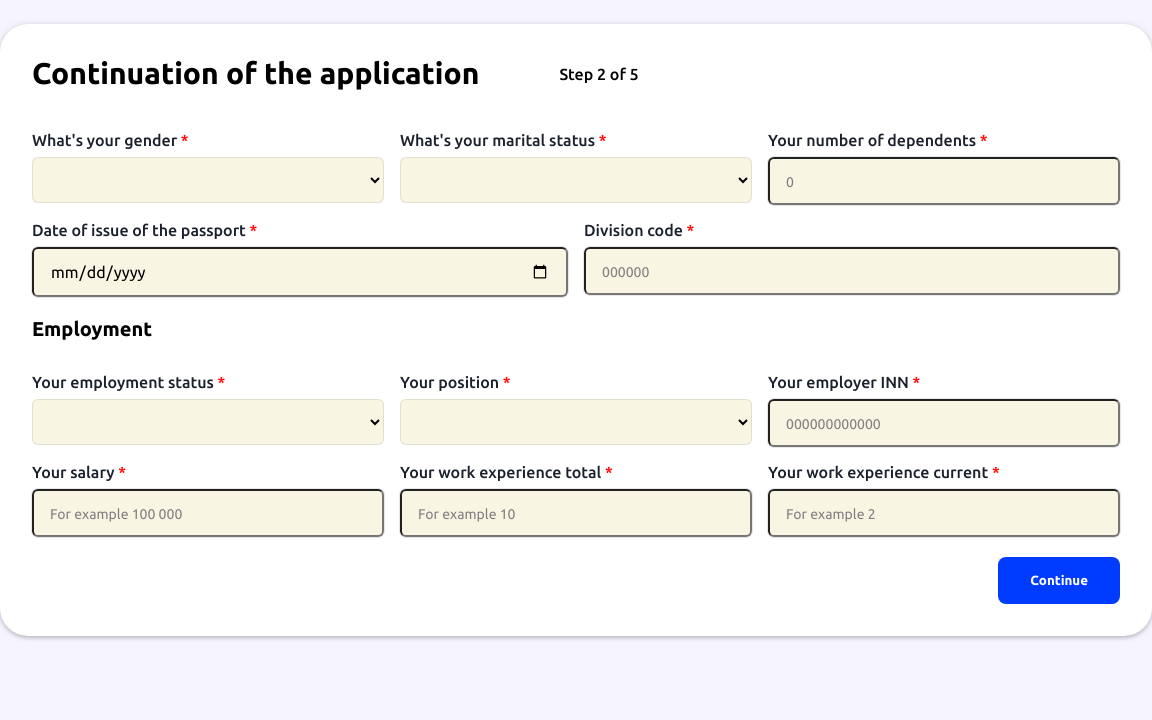
it: Scoring component › display error if trying submt without filling required fields
Click the button "Continue".
click(1059, 580)  # box [998,557,1120,604]
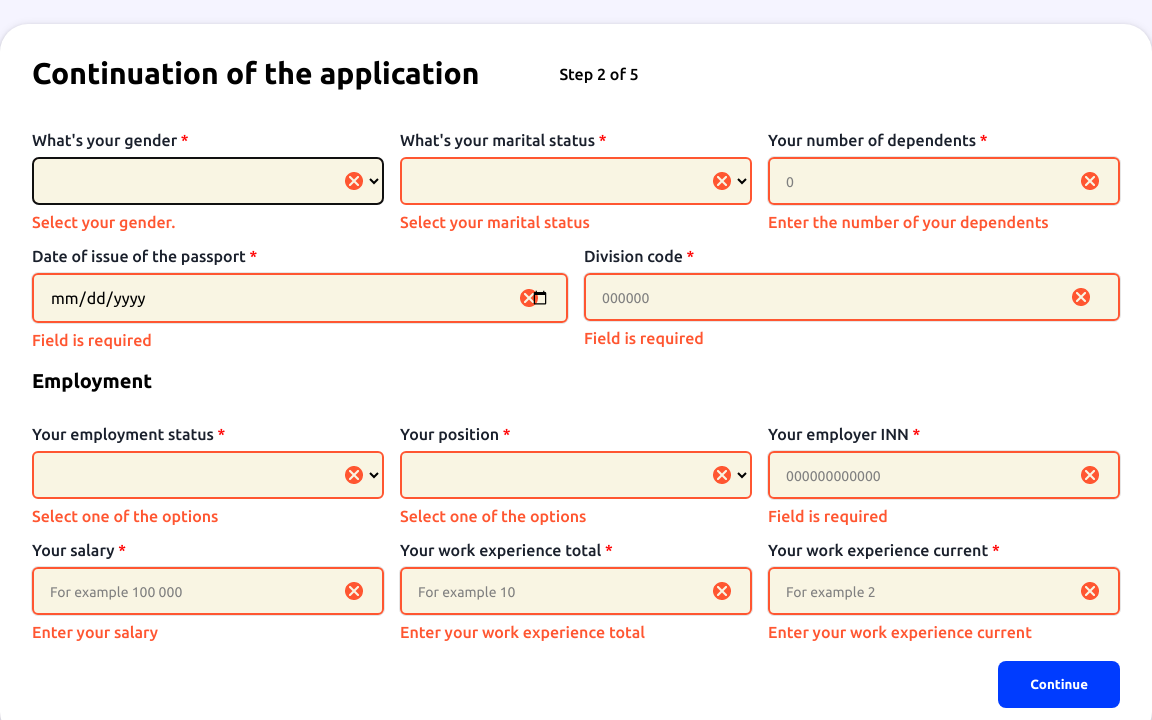
expect the text "Field is required" below "Date of issue of the passport" is shown: met, box [32,331,152,349]
